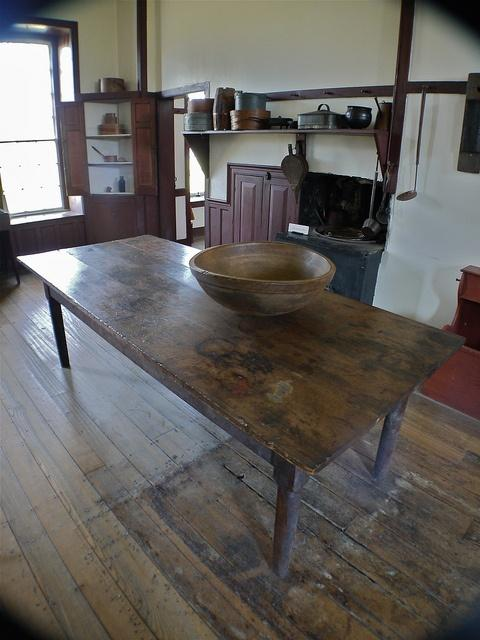Meja: (15, 232, 466, 577)
